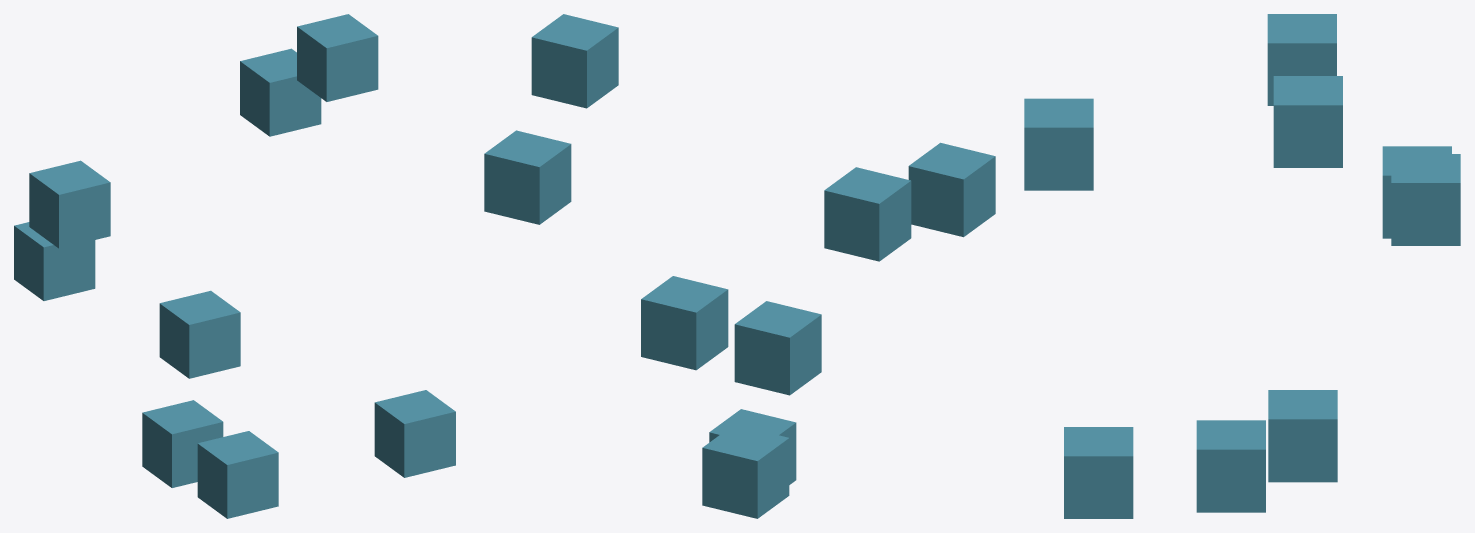
Rendered from spark.glb.
The picture shows the model from 3 angles, left to right: view 1: azimuth 30°, elevation 25°; view 2: azimuth 150°, elevation 25°; view 3: azimuth 270°, elevation 25°; orthographic projection. The views are drawn at different scales.
Visible parts, largest first — view 1: S4, S6, S1, S2, S3, S7, S5, S0; view 2: S3, S6, S7, S5, S0, S1, S4, S2; view 3: S2, S4, S5, S1, S3, S7, S6, S0.
Part boxes in pixels (x1=…): S4: x1=159, y1=290, x2=240, y2=378; S6: x1=29, y1=160, x2=110, y2=248; S1: x1=374, y1=390, x2=455, y2=477; S2: x1=197, y1=431, x2=278, y2=518; S3: x1=297, y1=14, x2=378, y2=101; S7: x1=240, y1=48, x2=321, y2=136; S5: x1=142, y1=400, x2=223, y2=487; S0: x1=14, y1=222, x2=95, y2=300; S3: x1=531, y1=14, x2=618, y2=108; S6: x1=824, y1=167, x2=911, y2=261; S7: x1=484, y1=130, x2=571, y2=224; S5: x1=702, y1=424, x2=789, y2=518; S0: x1=734, y1=301, x2=821, y2=395; S1: x1=641, y1=276, x2=728, y2=370; S4: x1=908, y1=142, x2=995, y2=237; S2: x1=709, y1=409, x2=796, y2=484; S2: x1=1196, y1=420, x2=1265, y2=512; S4: x1=1024, y1=98, x2=1093, y2=190; S5: x1=1268, y1=390, x2=1337, y2=482; S1: x1=1064, y1=427, x2=1133, y2=518; S3: x1=1273, y1=76, x2=1342, y2=167; S7: x1=1391, y1=154, x2=1460, y2=245; S6: x1=1267, y1=14, x2=1336, y2=105; S0: x1=1382, y1=146, x2=1451, y2=238.
Bounding box in the file's own units: 0.5 × 0.615 × 0.504.
